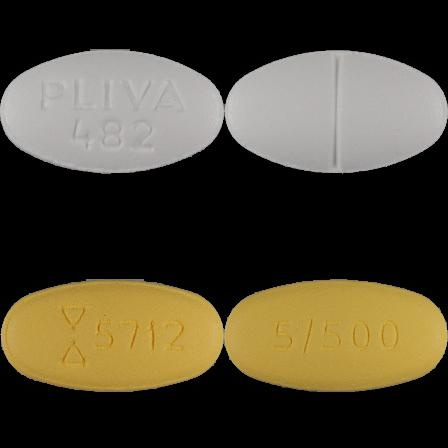63629-2792: (0, 0, 224, 224)
